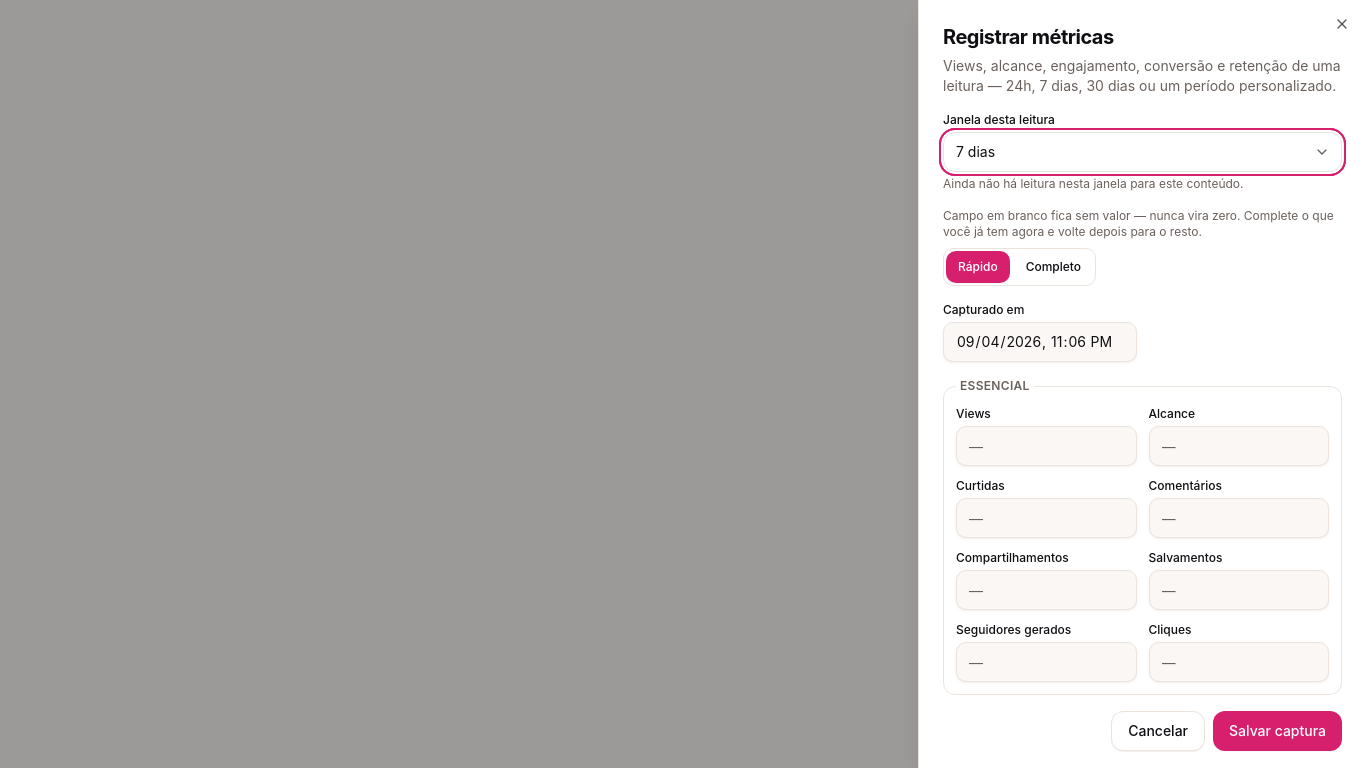
Scenario: MetricCaptureDrawer › alterna para o modo completo e mostra os campos de vídeo/retenção e stories
The width and height of the screenshot is (1366, 768).
Click the button "Completo" at (1053, 267), box [1014,251,1093,283]
(page scrolled)
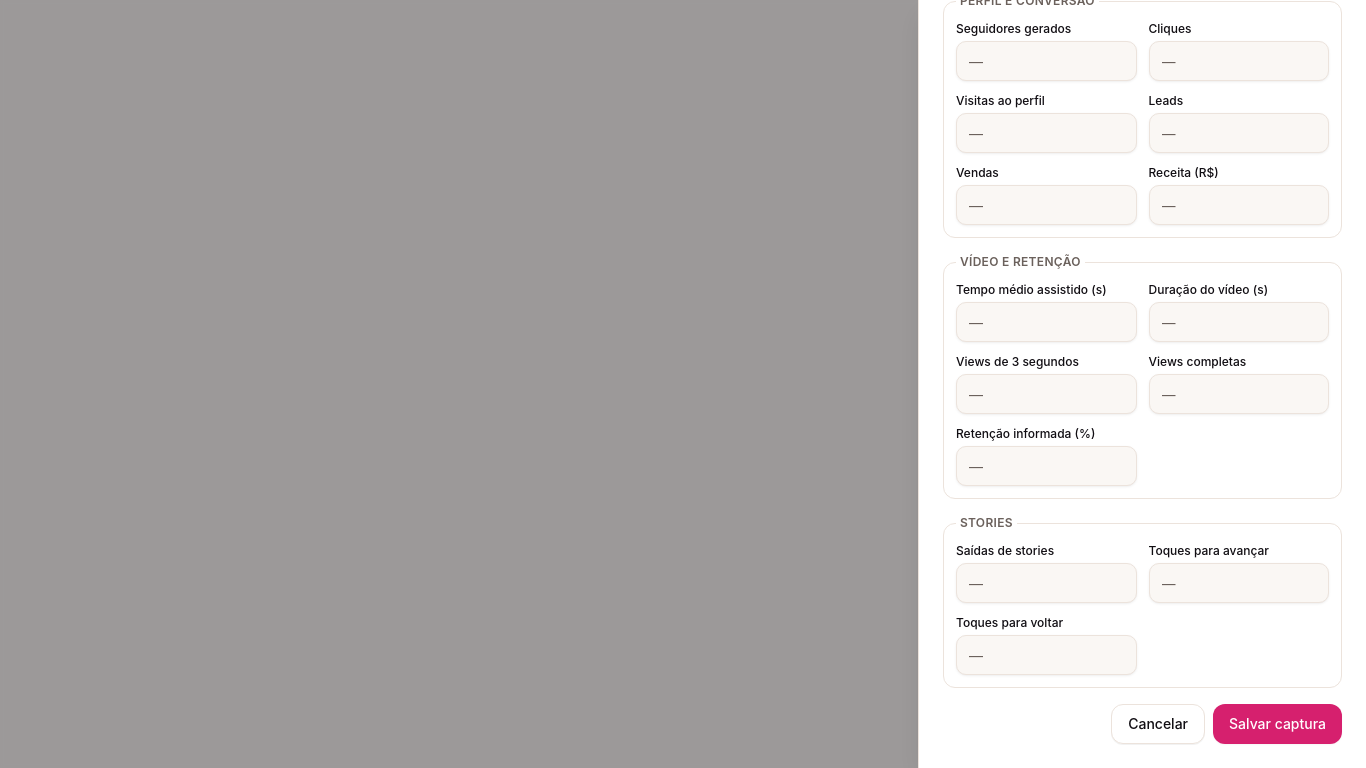
Now the number field labelled "Retenção informada (%)" is shown, box [956,446,1136,486]
Now the number field labelled "Saídas de stories" is shown, box [956,563,1136,603]
